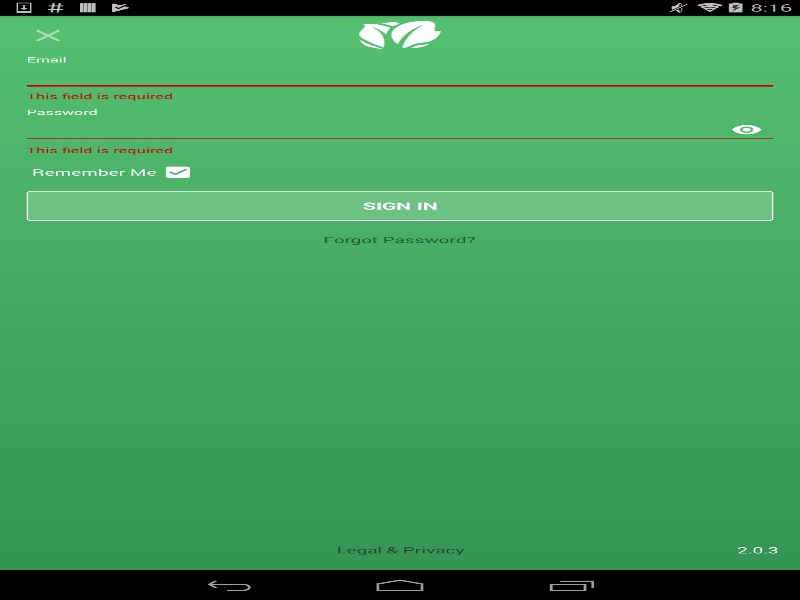Button: (21, 187, 778, 224), (307, 224, 492, 254), (320, 535, 480, 565), (10, 15, 85, 55), (714, 115, 778, 145)
Input: (21, 115, 778, 144), (21, 62, 778, 90)
